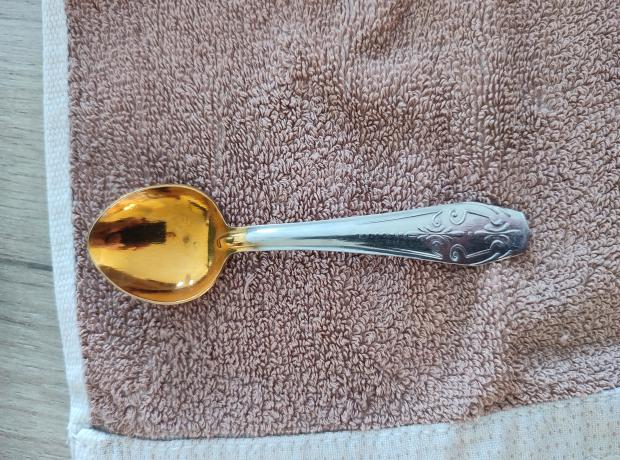metal: (83, 183, 532, 307)
